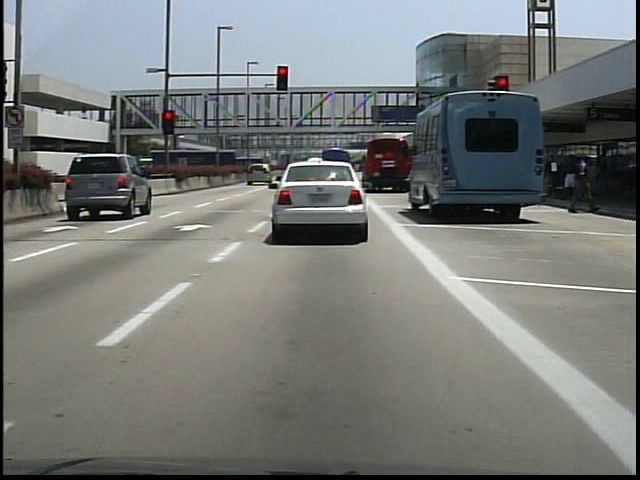person: (567, 152, 595, 216), (561, 152, 580, 202)
